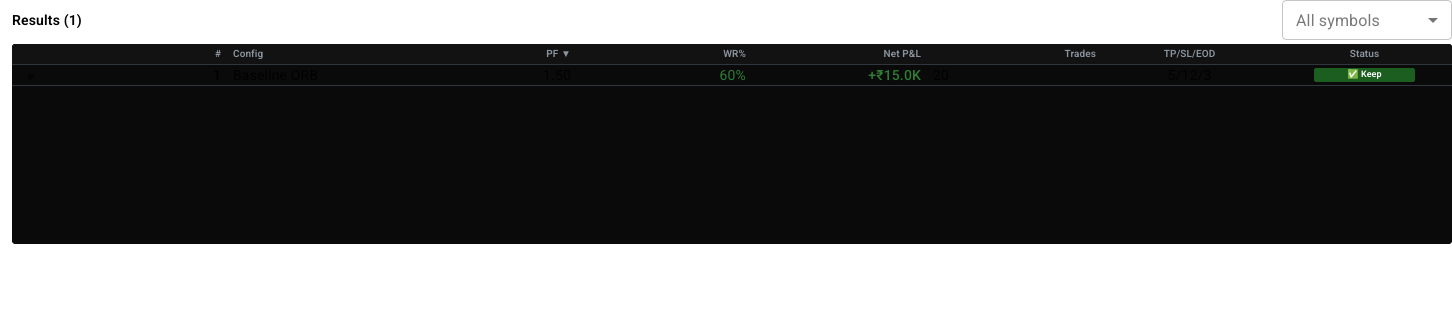
Test: ExperimentsResultsTable › expands a run to show per-symbol rows
Step 1. Click the button with test id "experiments-expand-1" → point(32, 75), box left=28, top=66, right=36, bottom=83
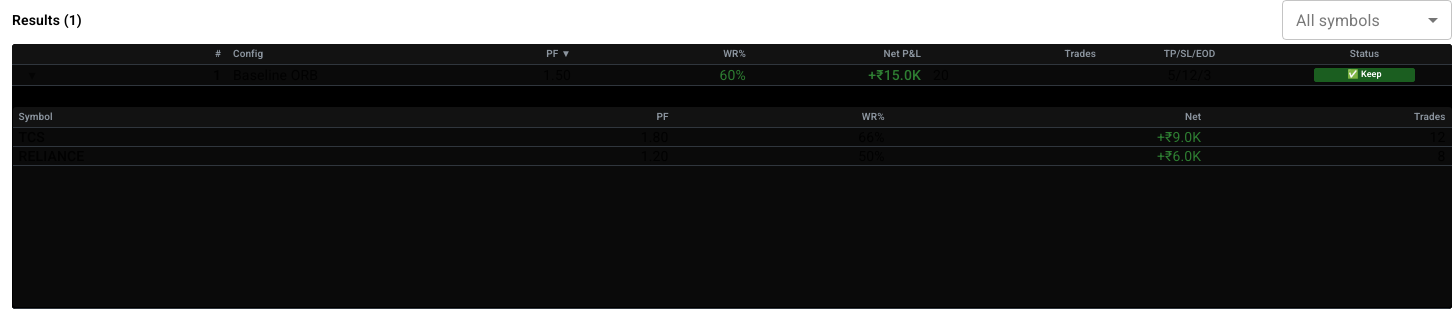
Expected: the text "TCS" is shown, left=18, top=129, right=45, bottom=145
Expected: the row with test id "experiments-symbol-row-1-TCS" is shown, left=12, top=127, right=1451, bottom=146
Expected: the row with test id "experiments-symbol-row-1-RELIANCE" is shown, left=12, top=146, right=1451, bottom=165
